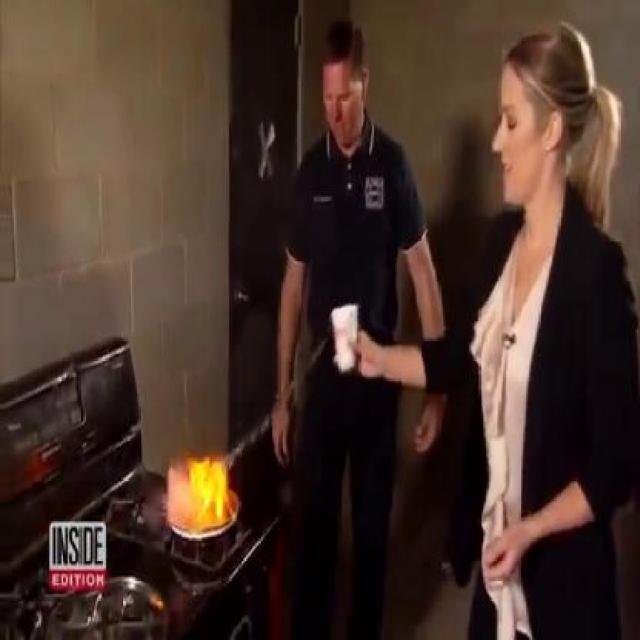fire: (194, 442, 242, 498)
smoke: (156, 460, 187, 528)
